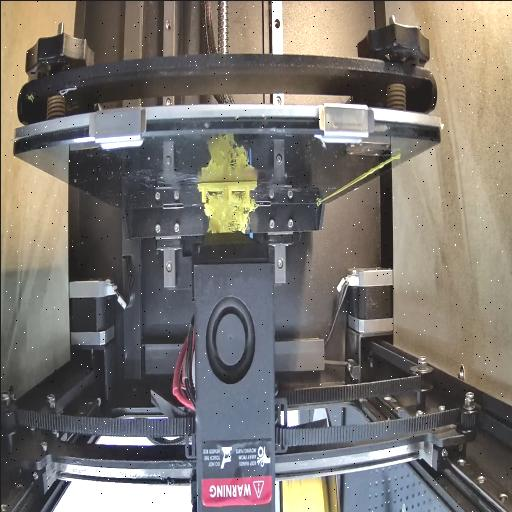spaghetti: (202, 190, 254, 242)
